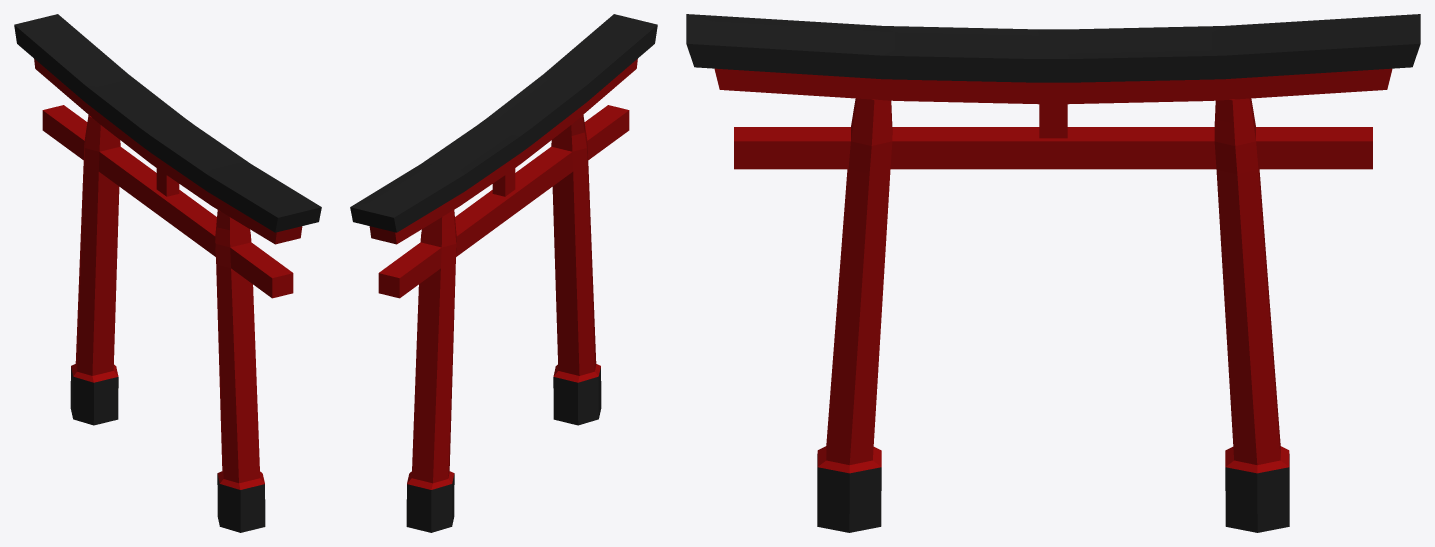
File: tori.glb
3 renders of one model, left to right at view 1: azimuth 30°, elevation 25°; view 2: azimuth 150°, elevation 25°; view 3: azimuth 270°, elevation 25°, orthographic. The views are drawn at different scales.
Visible parts, largest first — view 1: Shrine_Gate_1; view 2: Shrine_Gate_1; view 3: Shrine_Gate_1.
Part boxes in pixels (x1,y1,x2,y2): Shrine_Gate_1: [14, 14, 321, 532]; Shrine_Gate_1: [350, 14, 657, 532]; Shrine_Gate_1: [686, 14, 1420, 532].
Size of the model in its own units: 64.09 by 492 by 668.
1 material, 1 textured.
